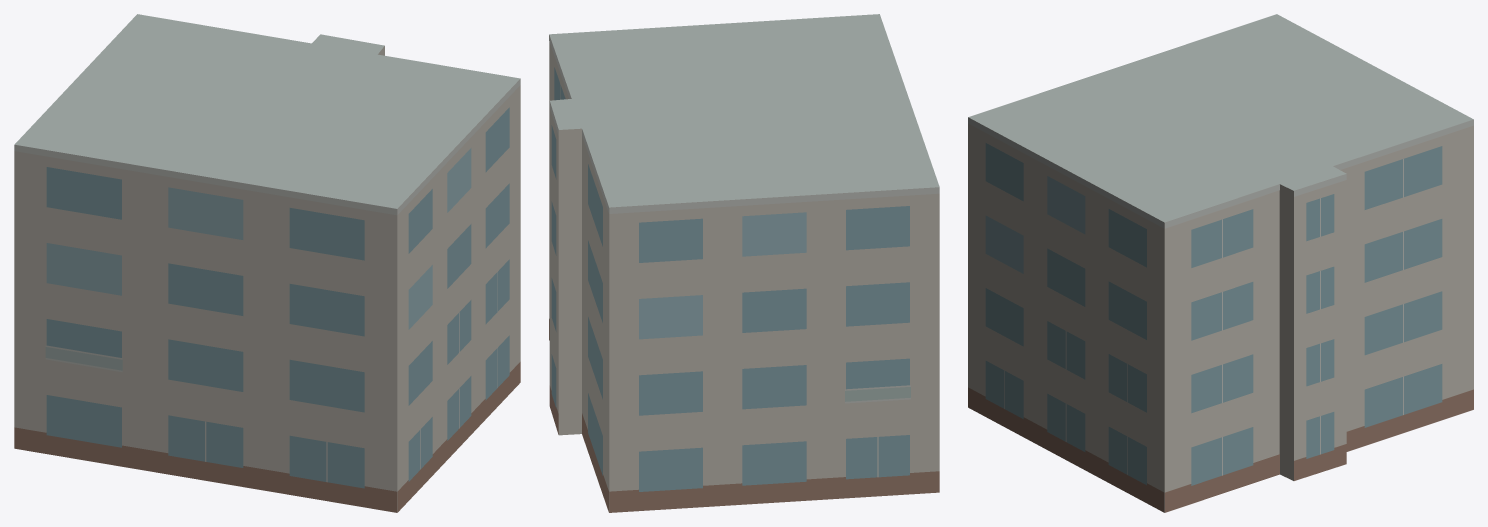
Rendered from survey-upis-32804454.glb.
3 renders of one model, left to right at view 1: azimuth 30°, elevation 25°; view 2: azimuth 150°, elevation 25°; view 3: azimuth 270°, elevation 25°, orthographic. The views are drawn at different scales.
Parts seen in each view (by area): view 1: survey-upis-32804454.tmp; view 2: survey-upis-32804454.tmp; view 3: survey-upis-32804454.tmp.
Part boxes in pixels (x1,y1,x2,y2): survey-upis-32804454.tmp: (14,14,520,512); survey-upis-32804454.tmp: (549,14,939,512); survey-upis-32804454.tmp: (968,14,1473,512).
Size of the model in its own units: 17.73 by 11.5 by 18.16.
